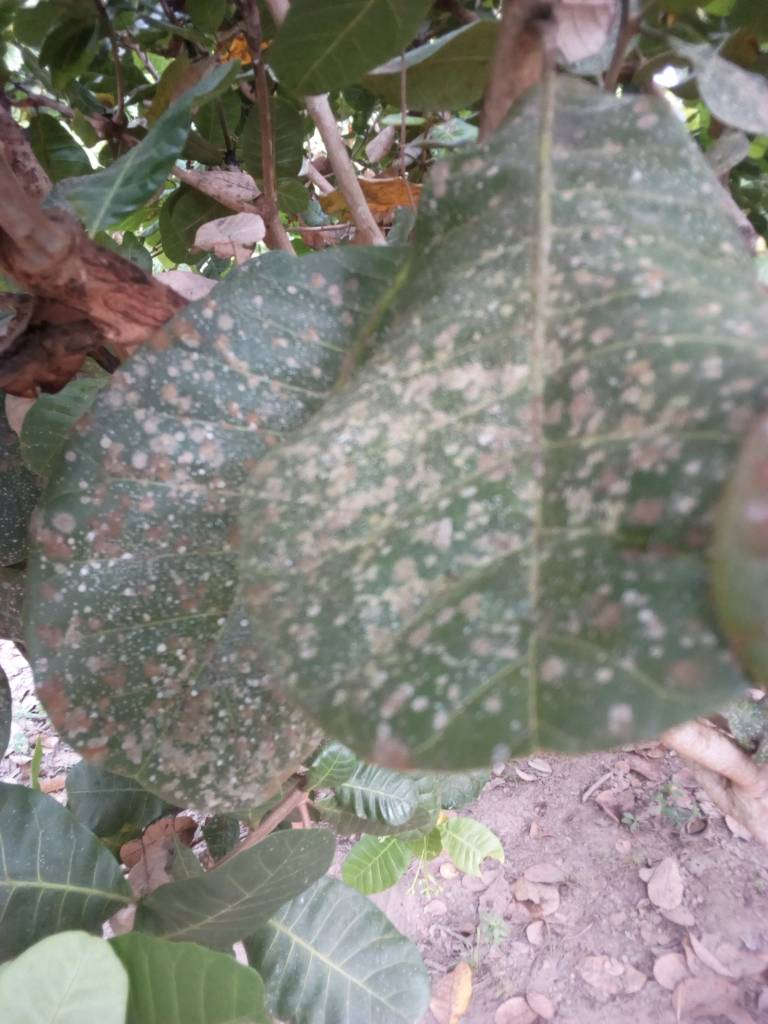Oïdium: (240, 57, 768, 755), (19, 246, 483, 821)
